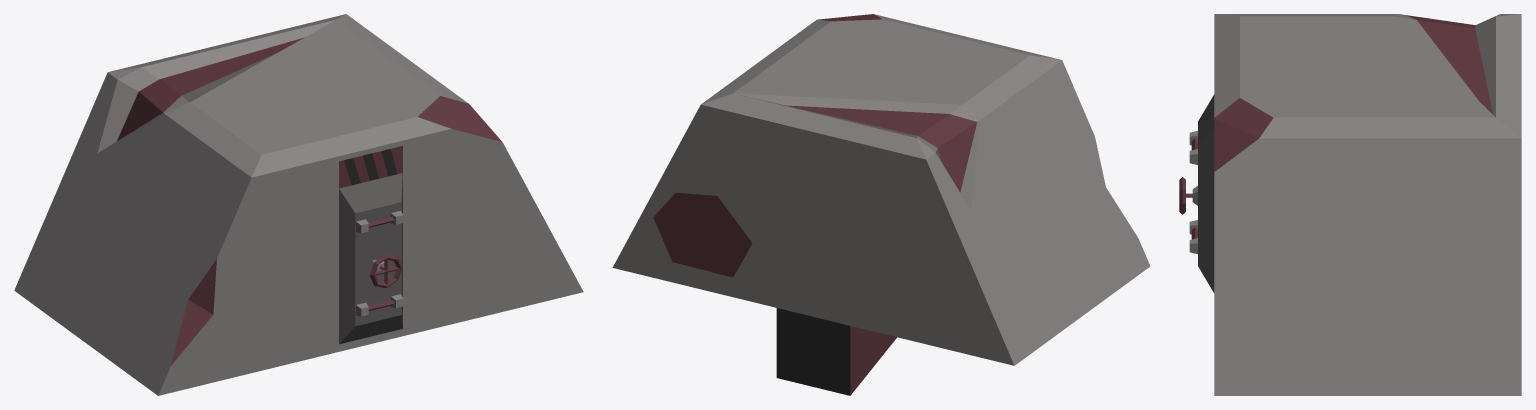
The model's file is bunker.fbx.
3 views of the same model, side by side, from view 1: azimuth 30°, elevation 25°; view 2: azimuth 150°, elevation 25°; view 3: azimuth 270°, elevation 25° (orthographic). The views are drawn at different scales.
Visible parts, largest first — view 1: bunker-medium-base, bunker-medium-door; view 2: bunker-medium-base; view 3: bunker-medium-base, bunker-medium-door.
Part boxes in pixels (left/top/right/bottom): bunker-medium-base: left=14, top=14, right=583, bottom=395; bunker-medium-door: left=339, top=173, right=403, bottom=344; bunker-medium-base: left=612, top=14, right=1150, bottom=395; bunker-medium-base: left=1214, top=14, right=1521, bottom=395; bunker-medium-door: left=1179, top=94, right=1214, bottom=292.
Size of the model in its own units: 6 by 3.75 by 3.91.
